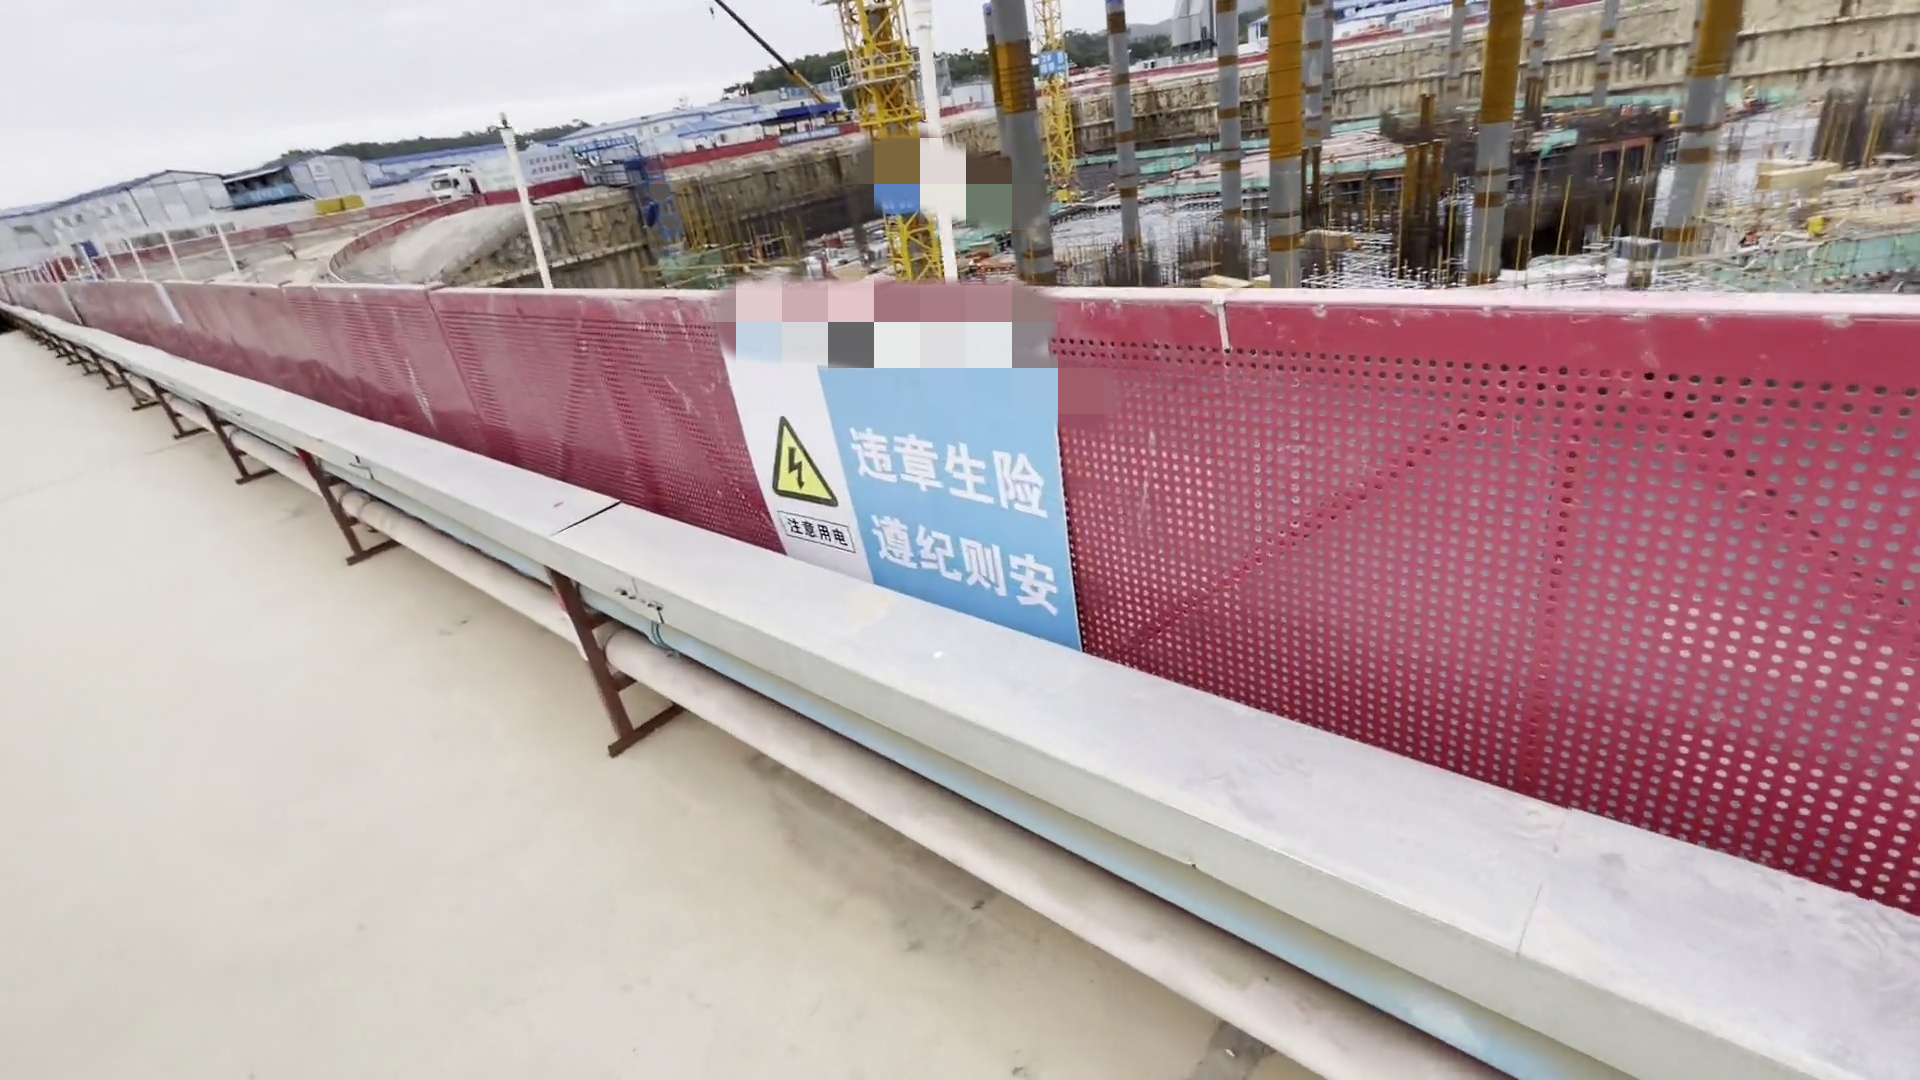fence: (1, 280, 1676, 832)
slogan: (720, 344, 1056, 622)
